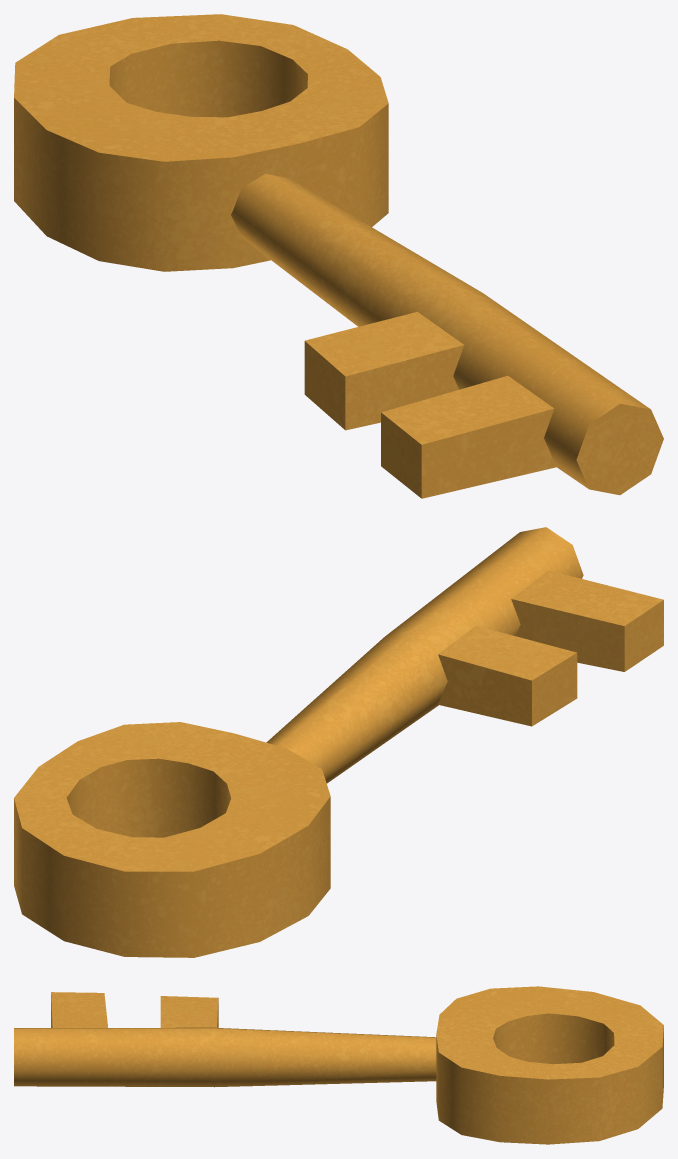
Rendered from Item_Key2.fbx.
3 renders of one model, top to bottom at view 1: azimuth 30°, elevation 25°; view 2: azimuth 150°, elevation 25°; view 3: azimuth 270°, elevation 25°, orthographic. The views are drawn at different scales.
Parts seen in each view (by area): view 1: key; view 2: key; view 3: key.
Part boxes in pixels (x1=…): key: x1=14, y1=14, x2=663, y2=498; key: x1=14, y1=527, x2=663, y2=957; key: x1=14, y1=986, x2=663, y2=1144.
Size of the model in its own units: 0.0954 by 0.0313 by 0.2644.
